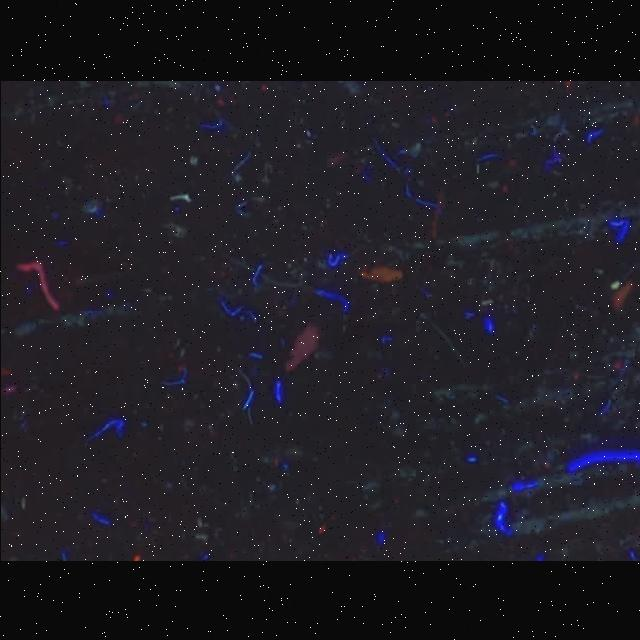Fibre: (162, 368, 187, 385)
